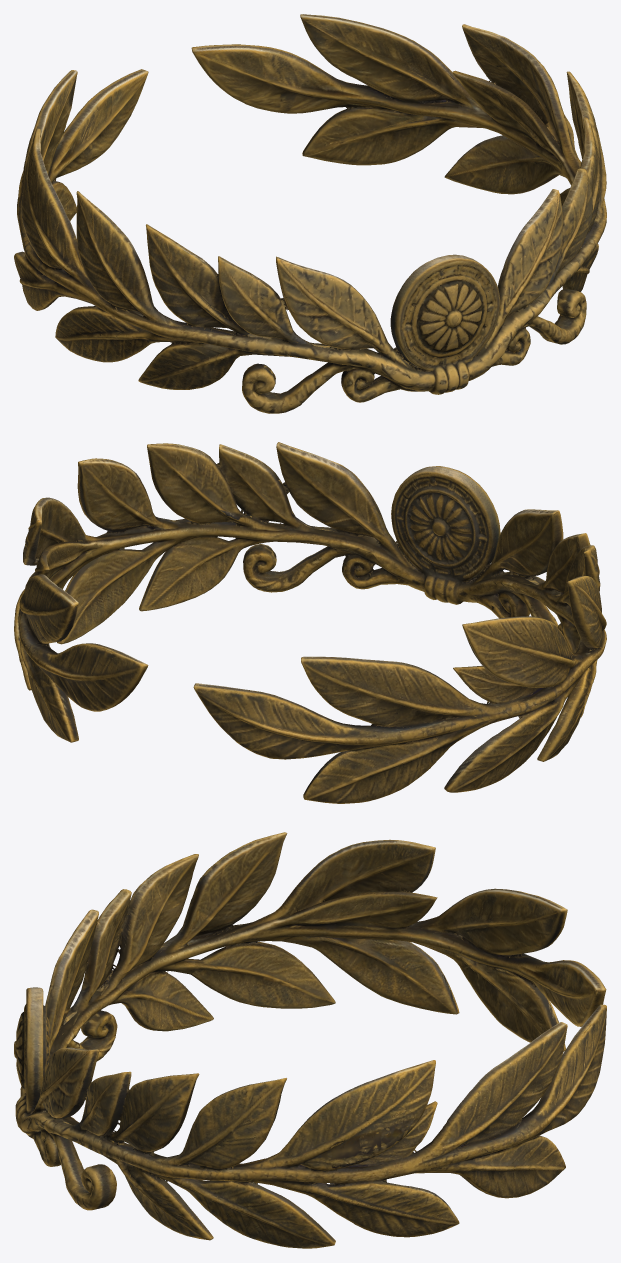
The model's file is WF_GreekRelics_LaurelCrown.fbx.
3 views of the same model, one above another, from view 1: azimuth 30°, elevation 25°; view 2: azimuth 150°, elevation 25°; view 3: azimuth 270°, elevation 25° (orthographic). The views are drawn at different scales.
Visible parts, largest first — view 1: Mesh1.0; view 2: Mesh1.0; view 3: Mesh1.0.
Part boxes in pixels (x1,y1,x2,y2): Mesh1.0: (14, 14, 606, 413); Mesh1.0: (14, 442, 606, 803); Mesh1.0: (14, 832, 606, 1248).
Bounding box in the file's own units: 191 × 61.51 × 183.
1 material, 1 textured.
